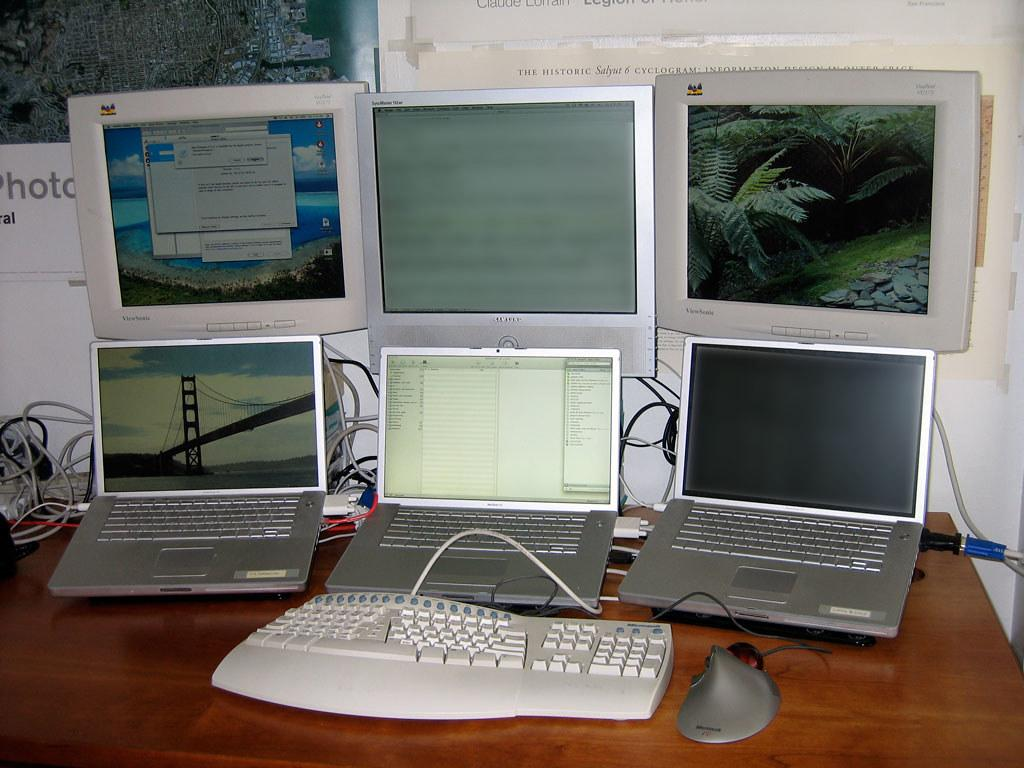computer: (617, 335, 937, 642), (655, 70, 981, 354), (355, 86, 657, 386), (325, 346, 622, 612), (68, 81, 370, 341), (47, 335, 328, 599)
